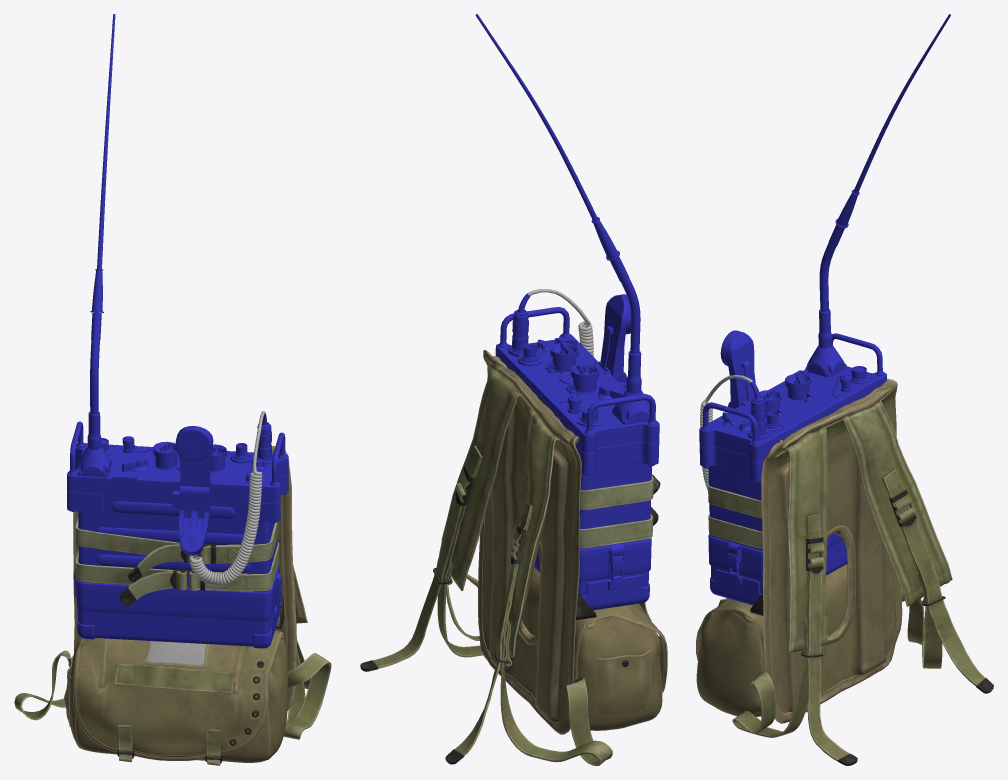
The model's file is prc25-draco.glb.
3 views of the same model, side by side, from view 1: azimuth 30°, elevation 25°; view 2: azimuth 150°, elevation 25°; view 3: azimuth 270°, elevation 25° (orthographic). The views are drawn at different scales.
Parts seen in each view (by area): view 1: Bag_Sides, Base, Straps, Top_Panel_Base, Side_Detail, Backplate_Edge, Lid_Edge, Speaker_01, Cord, Receivers, Side_Cover, Label (+7 smaller); view 2: Backplate, Straps, Shoulder_Strap, Bag_Sides, Top_Panel_Base, Base, Backplate_Edge, Side_Pocket, Side_Cover, Speaker_01, Bottom_Covers, Handles (+9 smaller); view 3: Backplate, Shoulder_Strap, Straps, Bag_Sides, Backplate_Edge, Top_Panel_Base, Base, Speaker_01, Side_Cover, Bottom_Covers, Handles, Buckles (+6 smaller).
Part boxes in pixels (box(x1,y1,x2,y2)): Bag_Sides: box(69, 630, 287, 762); Base: box(76, 494, 279, 646); Straps: box(14, 518, 331, 765); Top_Panel_Base: box(67, 443, 288, 503); Side_Detail: box(96, 501, 250, 573); Backplate_Edge: box(73, 442, 296, 710); Lid_Edge: box(73, 631, 283, 760); Speaker_01: box(176, 426, 213, 555); Cord: box(189, 411, 264, 586); Receivers: box(175, 427, 211, 553); Side_Cover: box(67, 463, 288, 521); Label: box(148, 641, 205, 665); Backplate: box(482, 362, 576, 722); Straps: box(373, 445, 653, 765); Shoulder_Strap: box(439, 370, 559, 657); Bag_Sides: box(521, 567, 665, 730); Top_Panel_Base: box(495, 334, 659, 453); Base: box(534, 462, 651, 596); Backplate_Edge: box(478, 350, 581, 734); Side_Pocket: box(594, 650, 651, 716); Side_Cover: box(575, 441, 659, 474); Speaker_01: box(600, 295, 630, 383); Bottom_Covers: box(582, 575, 649, 610); Handles: box(498, 307, 657, 434); Backplate: box(768, 387, 896, 712); Shoulder_Strap: box(784, 401, 952, 653); Straps: box(708, 469, 985, 761); Bag_Sides: box(696, 564, 847, 716); Backplate_Edge: box(761, 379, 902, 723); Top_Panel_Base: box(699, 366, 887, 462); Base: box(708, 466, 847, 593); Speaker_01: box(724, 331, 755, 408); Side_Cover: box(699, 446, 763, 481); Bottom_Covers: box(710, 569, 761, 605); Handles: box(701, 333, 884, 444); Buckles: box(801, 489, 993, 765).
Bounding box in the file's own units: 43.82 × 106 × 42.28.
4 materials, 2 textured.
